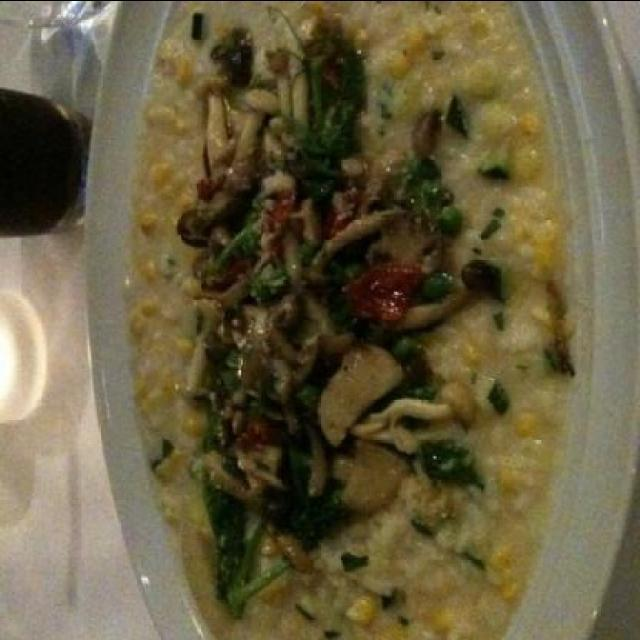Risotto: (109, 22, 572, 616)
